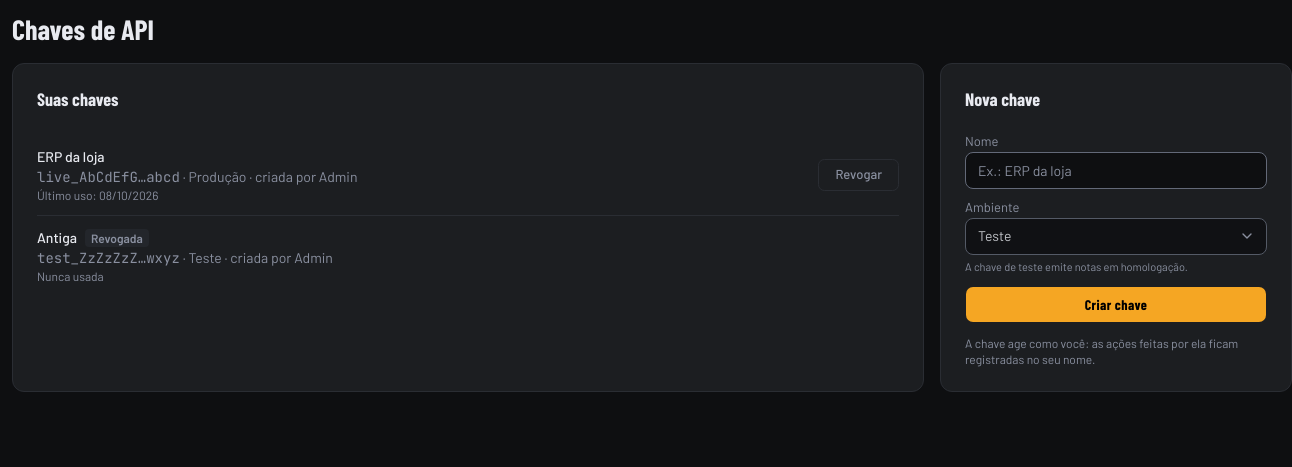
Test: chaves de API › erro de módulo fora do plano aparece em alerta
This screenshot has width=1292, height=467.
Type "ERP" into the field labelled "Nome" at (1116, 170), box [965,152,1267,188]
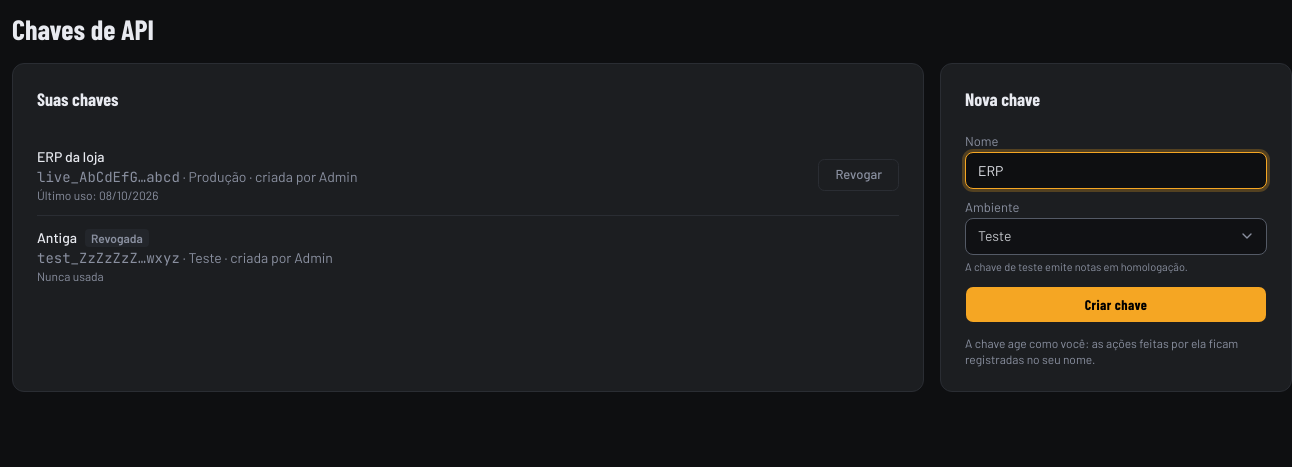
Click the button "Criar chave" at (1116, 305), box [965,286,1267,323]
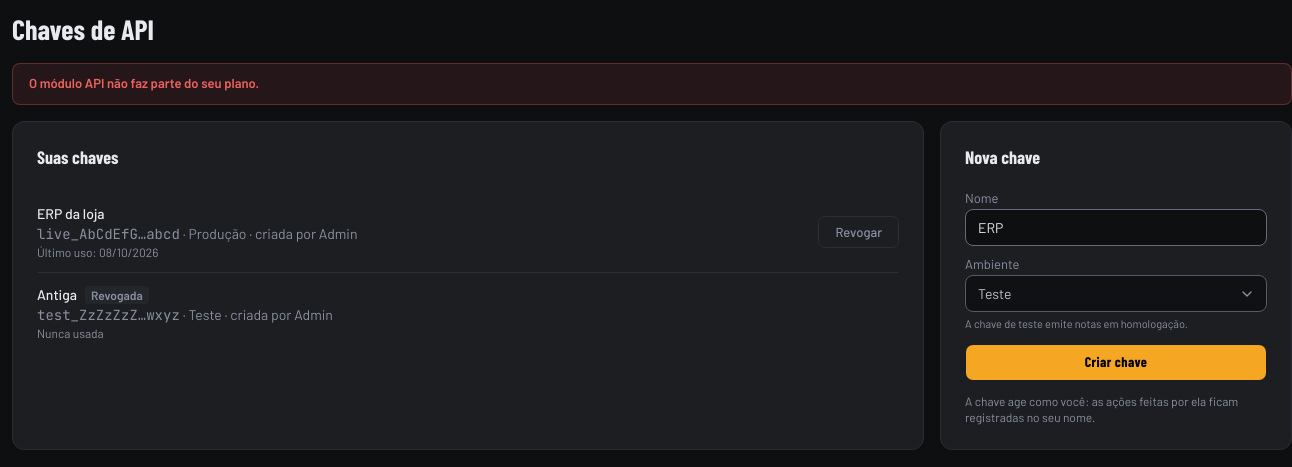
Expected: the message shows "não faz parte do seu plano", [29,75,259,91]
